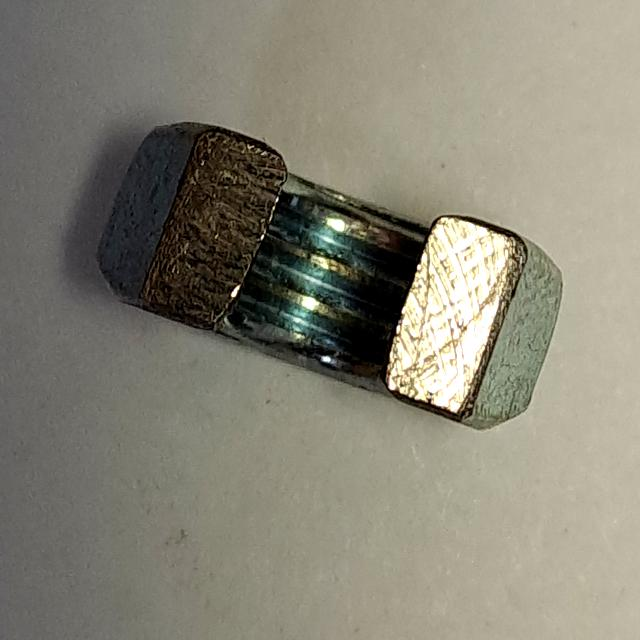Side-Fracture: (81, 107, 575, 447)
